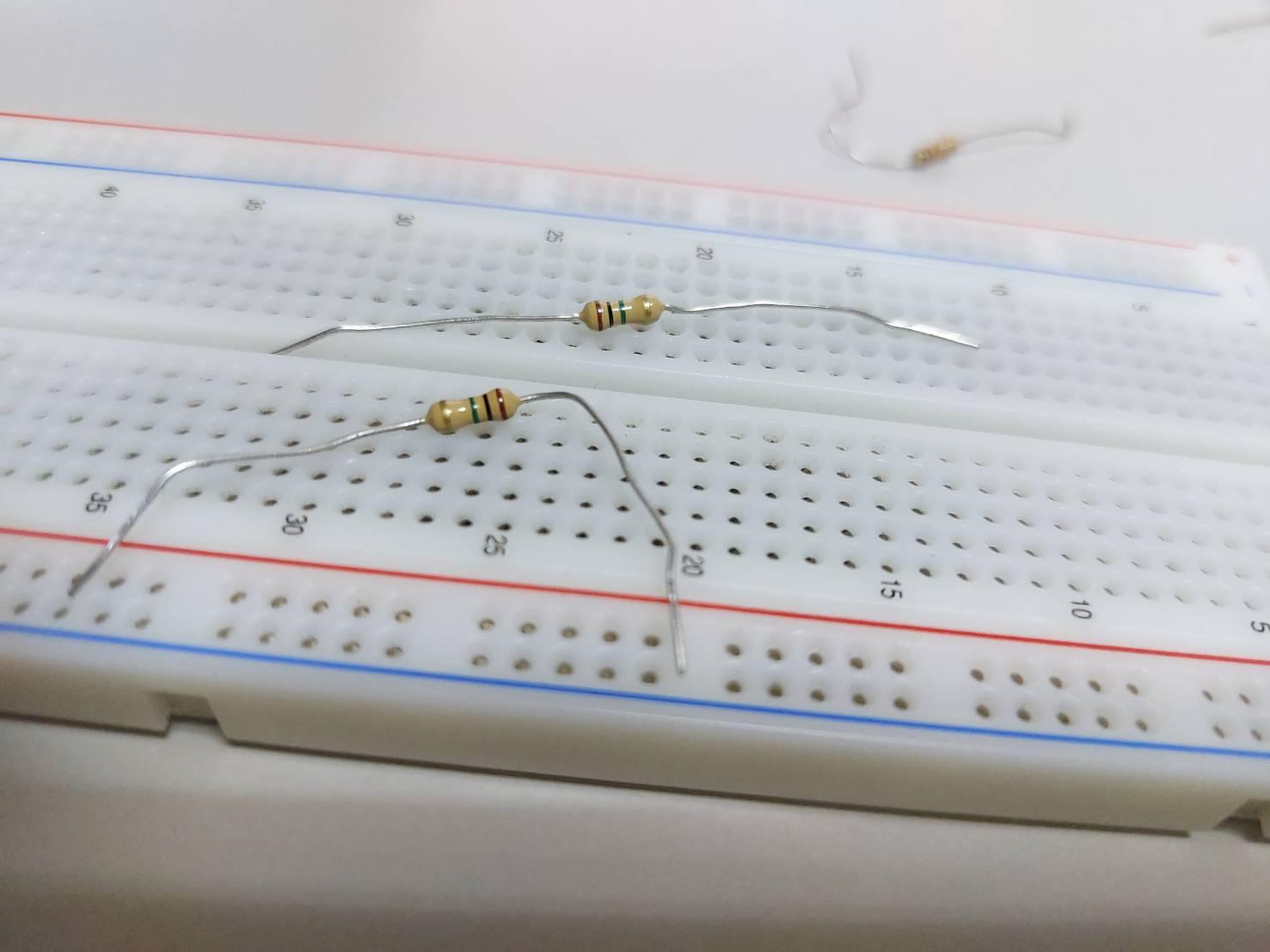resistor: (428, 383, 520, 435), (581, 294, 662, 333)
